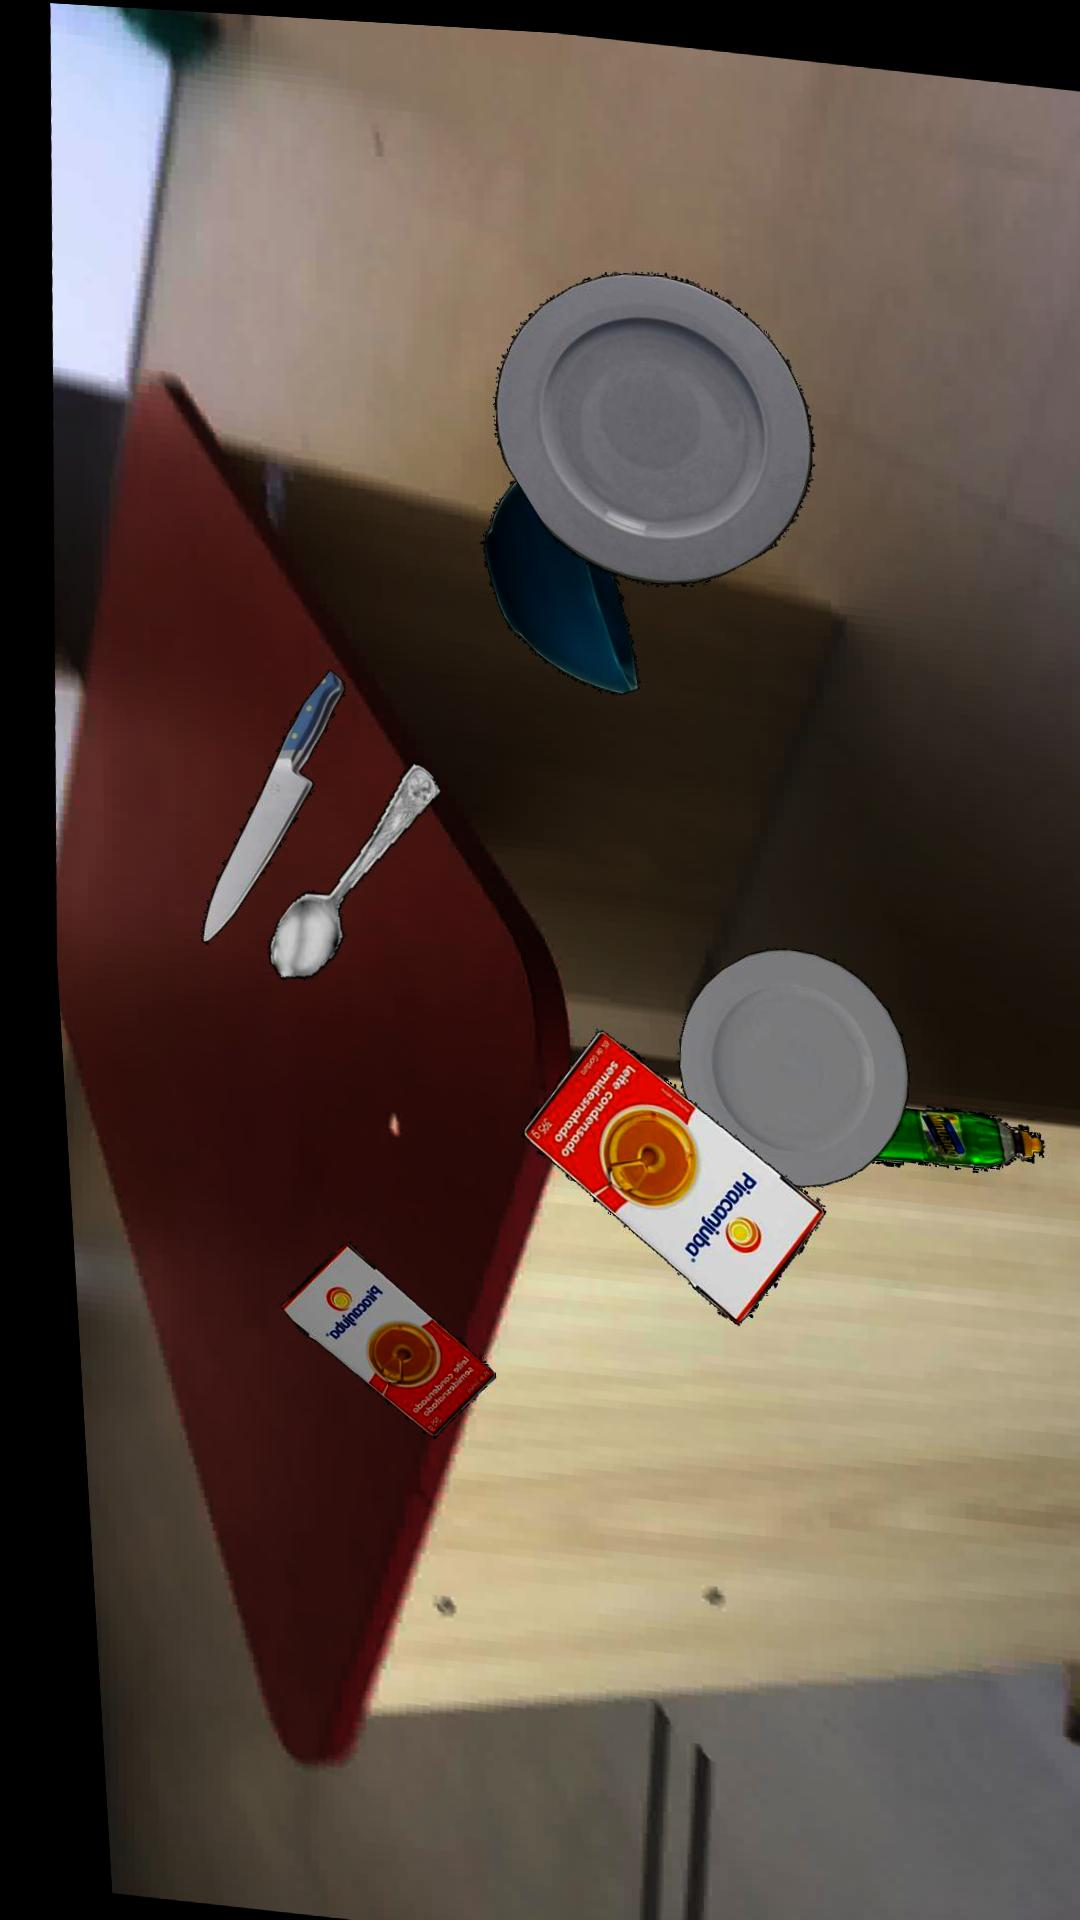bowl: (477, 473, 632, 686)
cleaner: (861, 1095, 1031, 1156)
knife: (191, 665, 338, 940)
plate: (491, 262, 811, 576), (667, 938, 897, 1176)
spoon: (258, 756, 433, 975)
